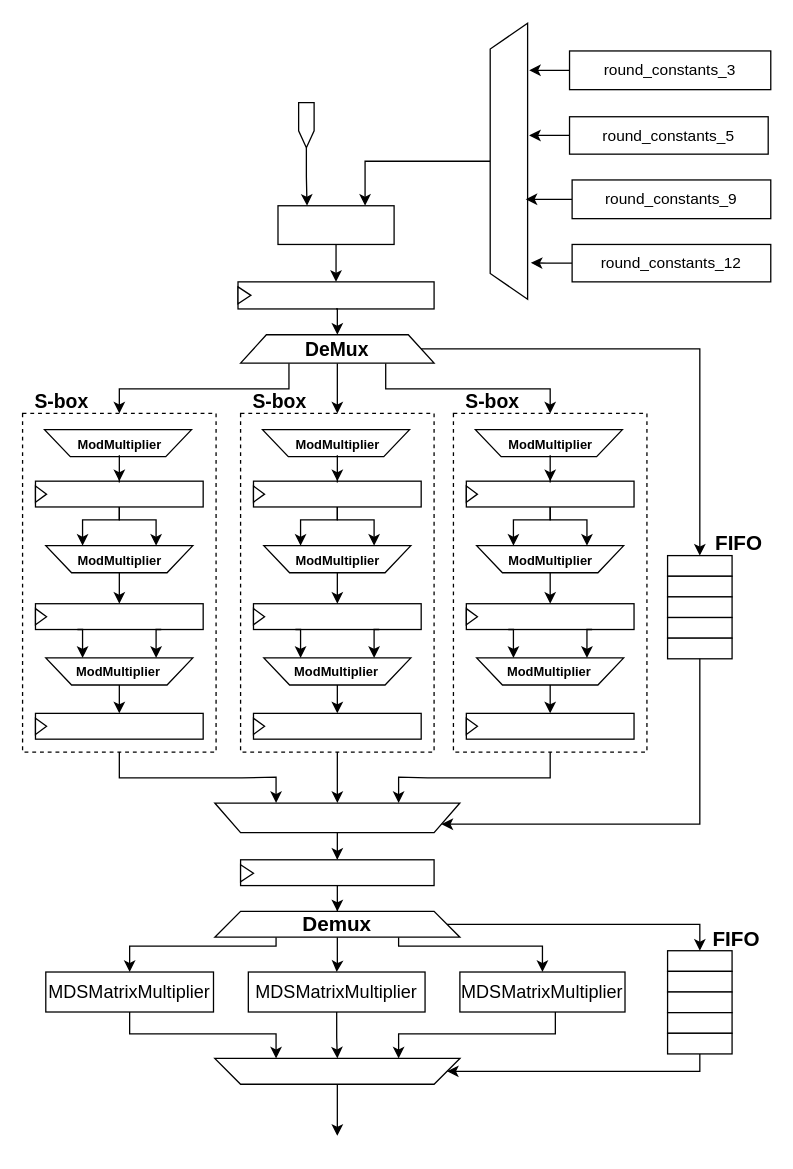
Image size: 793x1169. Some labels were removed from this diagram. The centre of each missing label's shape, as x and y in pixels:
"ModAdder" belongs at (x=335, y=224).
"Mux" belongs at (x=336, y=817).
